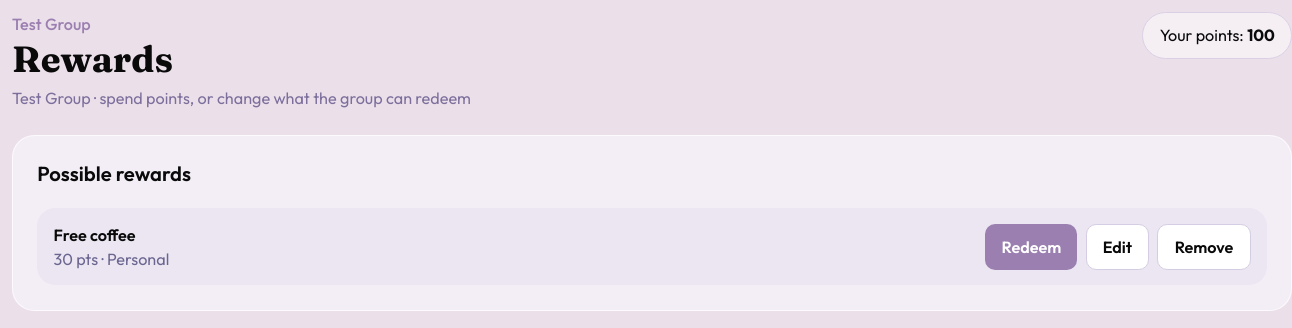
Test: Rewards page › redeems a reward and updates the points
The image size is (1292, 328).
Expected: the text "Free coffee" is shown, [54, 225, 136, 245]
Step 1. Click the button "Redeem" → click(1031, 247), box [985, 224, 1077, 270]
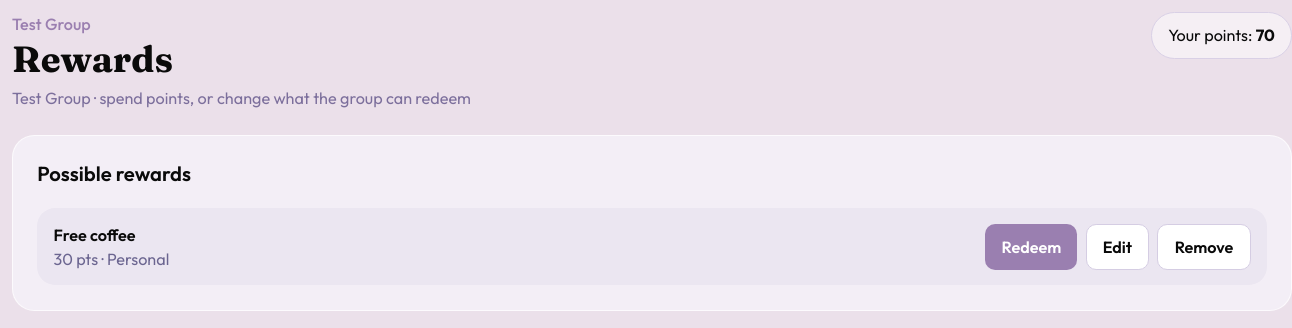
Now the text "70" is shown, box [1256, 25, 1275, 45]
